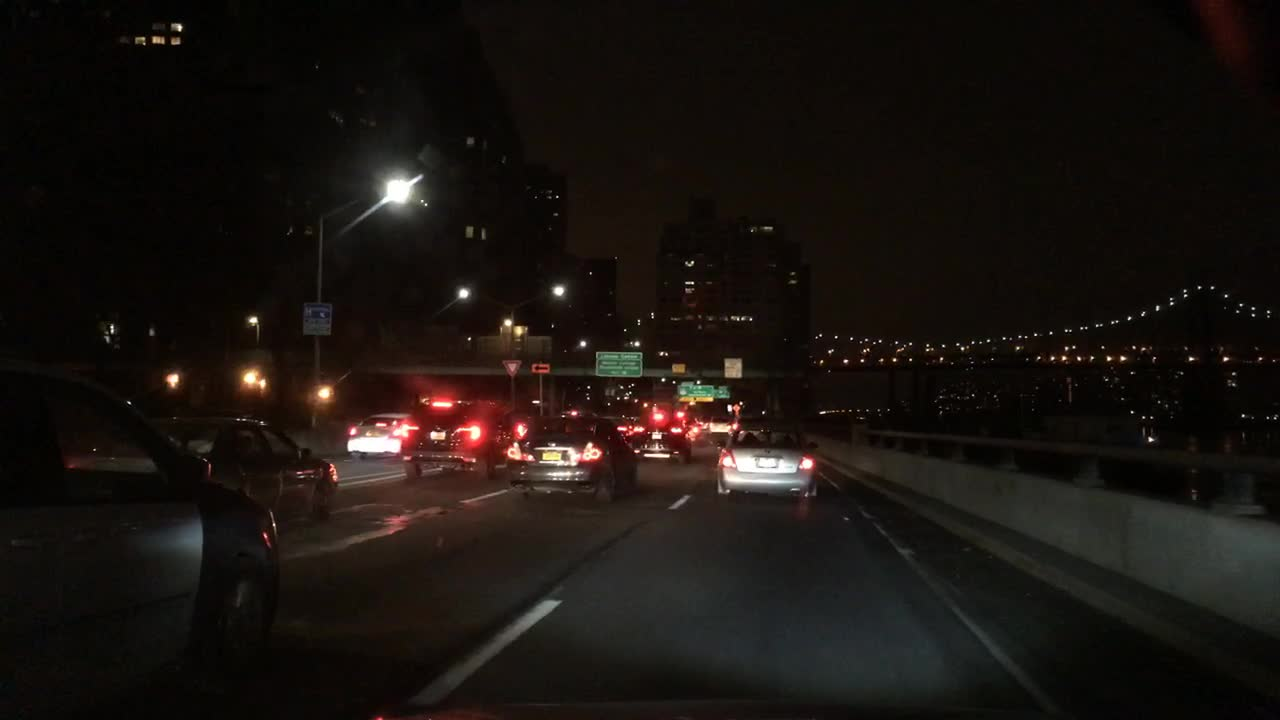car: (2, 363, 285, 714), (150, 411, 339, 525), (502, 414, 642, 502), (400, 398, 536, 481), (712, 426, 822, 502), (626, 410, 691, 461), (343, 411, 406, 460), (727, 414, 778, 434), (676, 411, 701, 435), (615, 414, 641, 437)
traffic sign: (591, 348, 642, 378), (301, 301, 333, 339), (672, 381, 716, 403), (722, 356, 744, 379), (502, 358, 521, 376), (530, 361, 551, 373), (713, 386, 731, 399)
